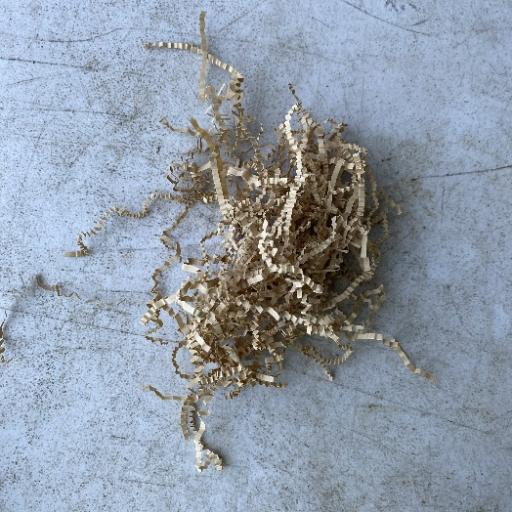Cardboard: (64, 11, 438, 474)
